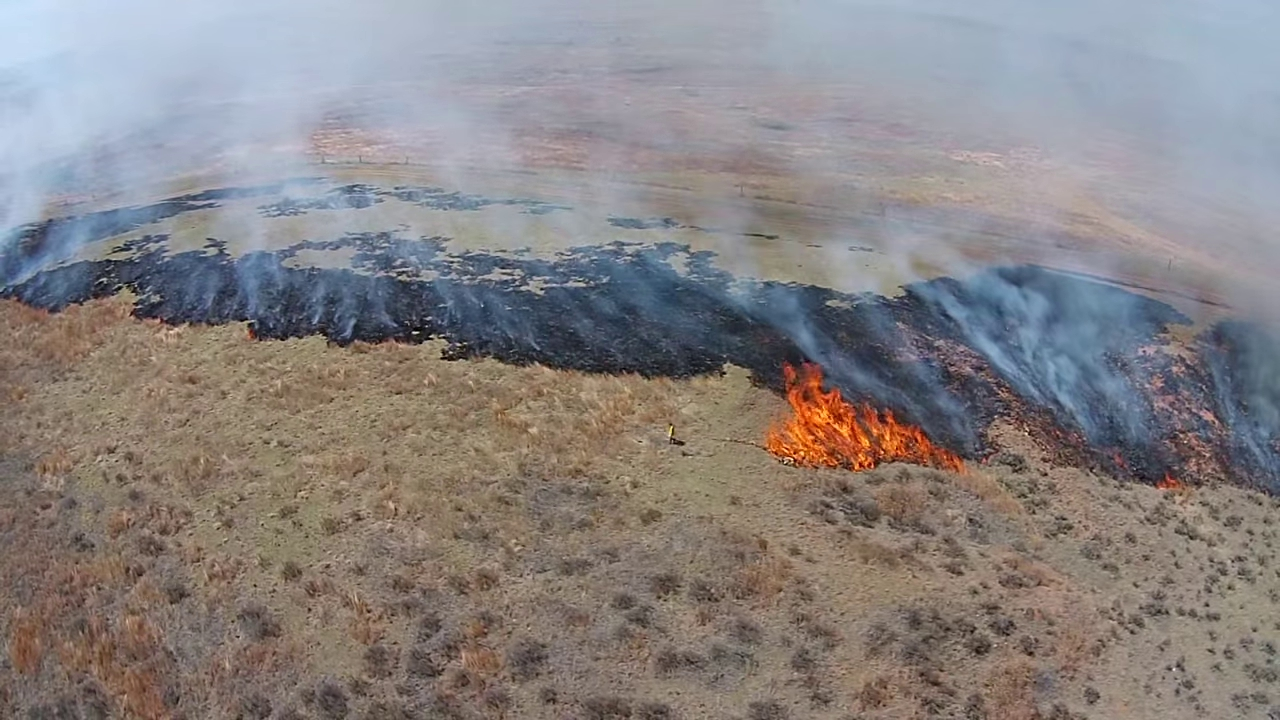forest_fire: (765, 363, 962, 469)
